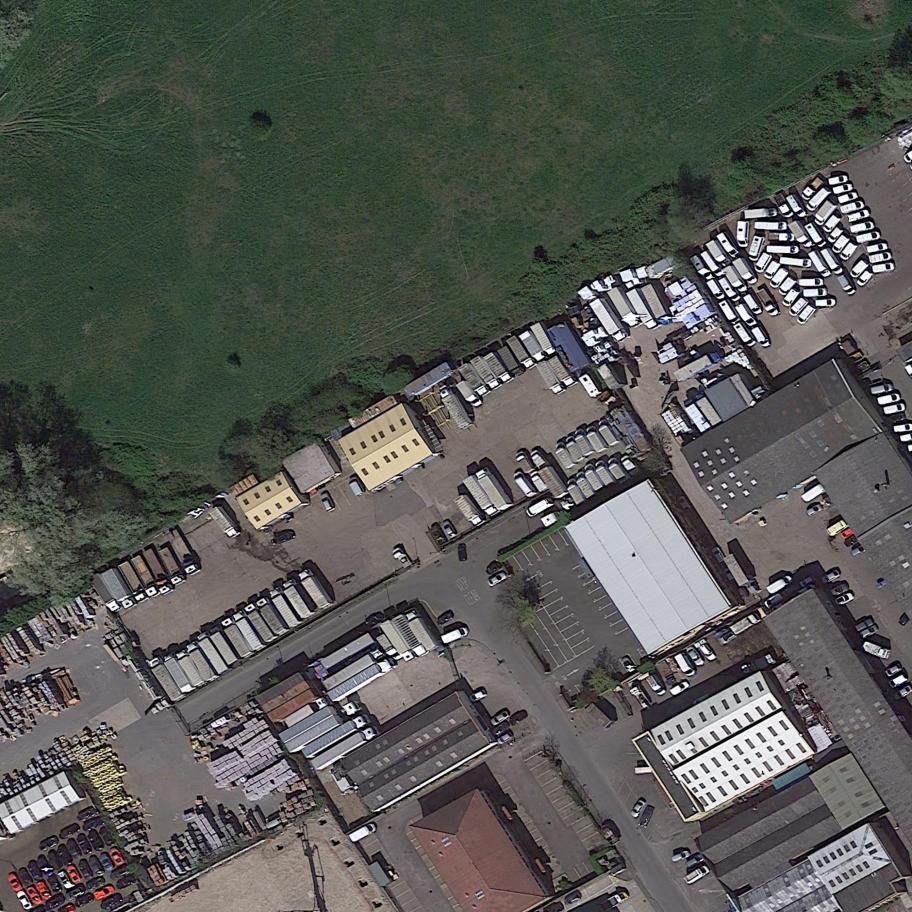large-vehicle: (283, 698, 365, 757), (310, 722, 383, 775), (325, 654, 399, 706), (300, 711, 374, 763), (321, 644, 389, 694), (588, 294, 632, 347), (472, 463, 515, 516), (536, 462, 580, 513), (145, 653, 187, 706), (278, 574, 320, 624), (390, 612, 431, 663), (217, 614, 258, 664), (265, 583, 306, 633), (193, 628, 233, 679), (165, 525, 203, 578), (461, 472, 502, 521), (379, 617, 419, 667), (101, 564, 140, 615), (139, 546, 177, 598), (295, 565, 336, 613), (673, 348, 724, 386), (206, 622, 246, 670), (404, 606, 443, 655), (231, 607, 270, 656), (254, 593, 293, 641), (183, 638, 221, 687), (607, 283, 645, 332), (437, 384, 475, 433), (282, 694, 332, 731), (625, 285, 662, 334), (87, 571, 127, 616), (640, 280, 676, 330), (242, 599, 280, 646), (161, 650, 198, 698), (129, 553, 163, 601), (116, 559, 149, 606), (208, 502, 245, 543), (452, 491, 489, 532), (457, 359, 493, 401), (469, 352, 505, 393), (174, 647, 208, 690), (505, 332, 540, 372), (157, 544, 187, 588), (535, 358, 568, 398), (483, 349, 517, 387), (547, 351, 580, 390), (529, 319, 561, 359), (739, 650, 779, 680), (518, 328, 549, 366), (497, 342, 528, 379), (731, 254, 762, 290), (602, 451, 632, 487), (591, 455, 621, 491), (721, 262, 752, 296), (592, 415, 622, 450), (455, 377, 485, 412), (510, 467, 540, 502), (376, 631, 405, 666), (572, 468, 601, 503), (811, 197, 841, 230), (704, 236, 733, 270), (580, 460, 609, 494), (729, 610, 763, 639), (582, 422, 610, 456), (788, 219, 816, 253), (563, 474, 590, 509), (552, 438, 580, 471), (689, 252, 717, 285), (756, 286, 783, 320), (578, 369, 605, 401), (562, 432, 588, 465), (617, 451, 645, 481), (572, 426, 597, 459), (673, 650, 699, 681), (808, 248, 833, 280), (798, 175, 826, 203), (820, 246, 845, 277), (597, 889, 630, 912), (528, 445, 554, 474), (803, 220, 829, 249), (682, 863, 712, 888), (861, 639, 893, 661), (773, 191, 796, 221), (785, 192, 809, 220), (391, 544, 415, 572), (645, 671, 669, 699), (527, 468, 551, 496), (655, 659, 678, 687), (768, 266, 790, 291), (743, 206, 779, 221), (748, 235, 766, 263), (781, 286, 801, 309), (779, 255, 813, 268), (735, 220, 750, 248), (778, 275, 797, 297), (767, 230, 797, 242), (767, 244, 800, 254), (754, 221, 788, 230), (803, 288, 828, 298), (799, 278, 825, 287)
small-vehicle: (715, 229, 743, 262), (805, 185, 833, 213), (732, 320, 758, 349), (525, 496, 556, 520), (765, 573, 795, 597), (348, 822, 379, 845), (734, 301, 759, 329), (718, 297, 742, 326), (718, 275, 742, 303), (440, 625, 470, 645), (751, 324, 773, 350), (742, 291, 764, 317), (836, 272, 858, 298), (705, 277, 727, 302), (795, 302, 817, 327), (514, 450, 536, 475), (753, 250, 774, 275), (788, 295, 810, 318), (825, 518, 849, 539), (848, 258, 870, 280), (685, 645, 706, 668), (86, 830, 107, 853), (43, 892, 67, 912), (45, 849, 65, 873), (429, 523, 449, 547), (55, 843, 75, 867), (637, 804, 655, 830), (763, 590, 785, 611), (831, 233, 851, 256), (839, 239, 859, 262), (114, 873, 137, 893), (347, 475, 366, 499), (93, 883, 117, 902), (100, 892, 124, 911), (77, 858, 96, 882), (36, 855, 55, 879), (26, 859, 45, 883), (65, 837, 84, 861), (822, 213, 842, 235), (507, 708, 529, 728), (698, 641, 718, 663), (115, 873, 137, 893), (15, 889, 34, 912), (98, 825, 117, 848), (73, 891, 96, 910), (87, 855, 106, 878), (763, 259, 782, 281), (34, 880, 53, 902), (25, 885, 44, 907), (629, 798, 648, 820), (26, 860, 45, 882), (16, 867, 35, 889), (56, 869, 75, 891), (108, 864, 131, 882), (84, 875, 107, 893), (82, 816, 105, 834), (76, 806, 100, 823), (840, 199, 865, 215), (5, 872, 24, 893), (45, 874, 64, 895), (97, 852, 116, 873), (107, 846, 126, 867), (318, 491, 336, 513), (887, 672, 909, 690), (57, 869, 75, 891), (38, 835, 60, 853), (6, 871, 24, 893), (489, 710, 511, 728), (64, 885, 87, 902), (76, 833, 93, 856), (59, 823, 82, 840), (440, 519, 459, 539), (859, 623, 880, 641), (65, 864, 83, 885), (699, 529, 717, 550), (65, 863, 83, 884), (669, 680, 691, 697), (820, 569, 842, 586), (17, 866, 34, 888), (78, 859, 95, 881), (796, 583, 819, 599), (856, 268, 874, 288), (843, 531, 863, 549), (491, 721, 512, 738), (685, 852, 706, 869), (711, 545, 728, 566), (838, 524, 859, 541), (486, 571, 507, 588), (834, 591, 856, 607), (827, 225, 845, 244), (884, 662, 904, 679), (46, 875, 63, 895), (849, 221, 875, 234), (877, 392, 901, 406), (846, 209, 870, 223), (829, 582, 850, 598), (85, 876, 106, 892), (837, 190, 859, 205), (856, 231, 881, 244), (719, 629, 738, 646), (675, 494, 692, 513), (854, 617, 874, 633), (562, 892, 582, 908), (468, 688, 488, 704), (275, 531, 297, 545), (620, 656, 637, 674), (798, 573, 817, 589), (805, 503, 824, 519), (850, 543, 869, 559), (436, 611, 455, 627), (485, 560, 504, 576), (870, 383, 895, 395), (671, 849, 692, 863), (872, 262, 896, 274), (496, 730, 514, 746), (883, 403, 906, 415), (869, 252, 892, 264), (722, 566, 737, 584), (866, 242, 888, 254), (832, 183, 854, 195), (736, 585, 751, 602), (897, 611, 912, 627), (828, 175, 849, 186), (875, 577, 892, 590), (815, 298, 836, 308), (457, 544, 467, 562)
